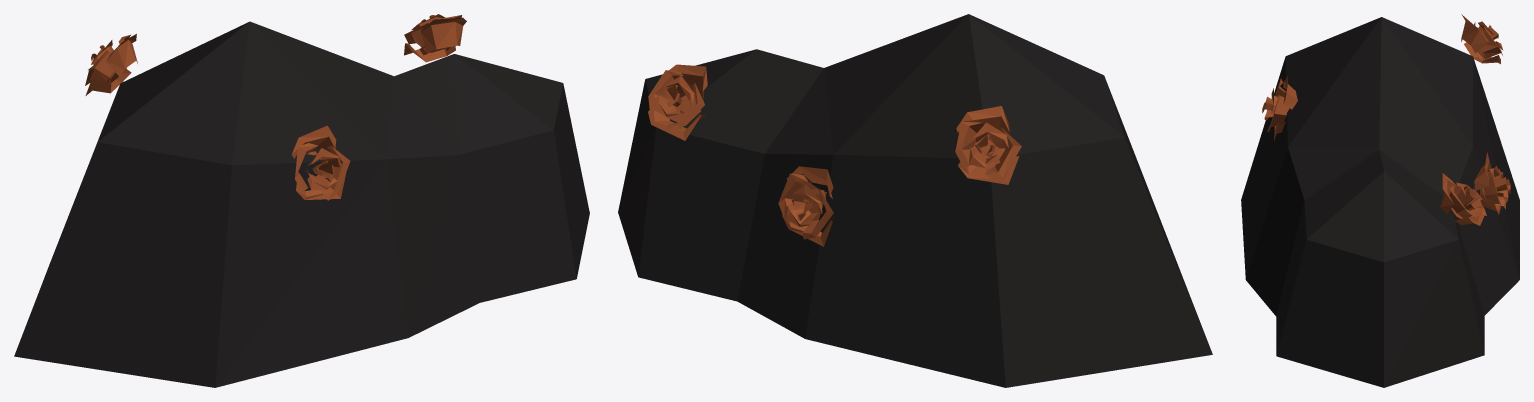
Rendered from obj_rosebush_0.obj.
The picture shows the model from 3 angles, left to right: view 1: azimuth 30°, elevation 25°; view 2: azimuth 150°, elevation 25°; view 3: azimuth 270°, elevation 25°; orthographic projection. The views are drawn at different scales.
Bounding box in the file's own units: 1.87 × 0.8516 × 0.9297.
